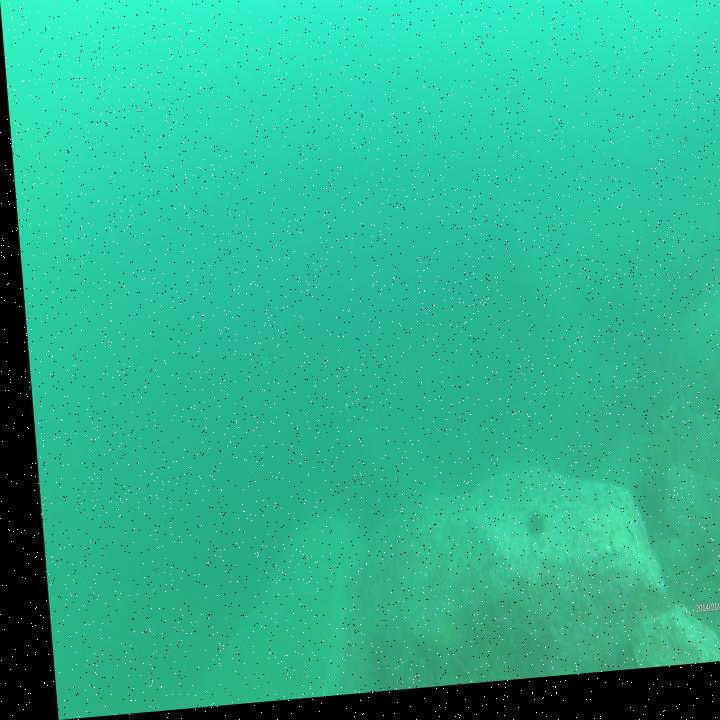echinus: (514, 516, 537, 549)
